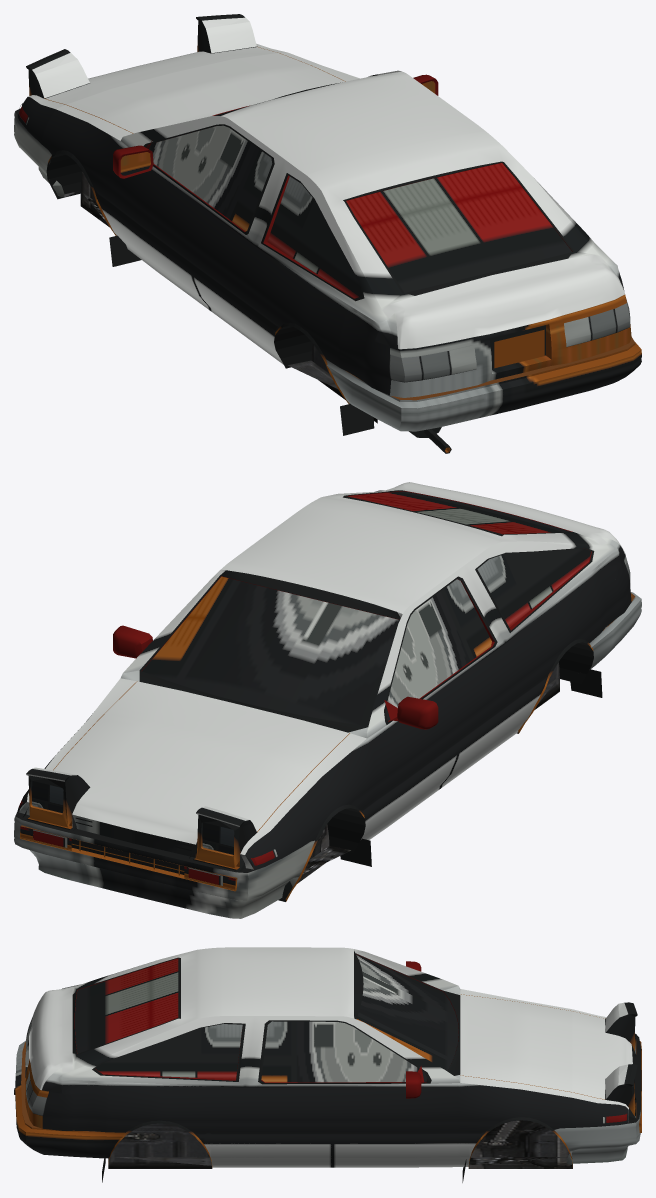
Rendered from hatch_83_popup_lampsup.obj.
3 renders of one model, top to bottom at view 1: azimuth 30°, elevation 25°; view 2: azimuth 150°, elevation 25°; view 3: azimuth 270°, elevation 25°, orthographic. The views are drawn at different scales.
Visible parts, largest first — view 1: hatch_83_popup_lampsup; view 2: hatch_83_popup_lampsup; view 3: hatch_83_popup_lampsup.
Part boxes in pixels (x1,y1,x2,y2): hatch_83_popup_lampsup: [14, 14, 641, 453]; hatch_83_popup_lampsup: [14, 482, 641, 918]; hatch_83_popup_lampsup: [14, 947, 641, 1182].
Bounding box in the file's own units: 1.93 × 1.16 × 4.21.
1 material, 1 textured.
